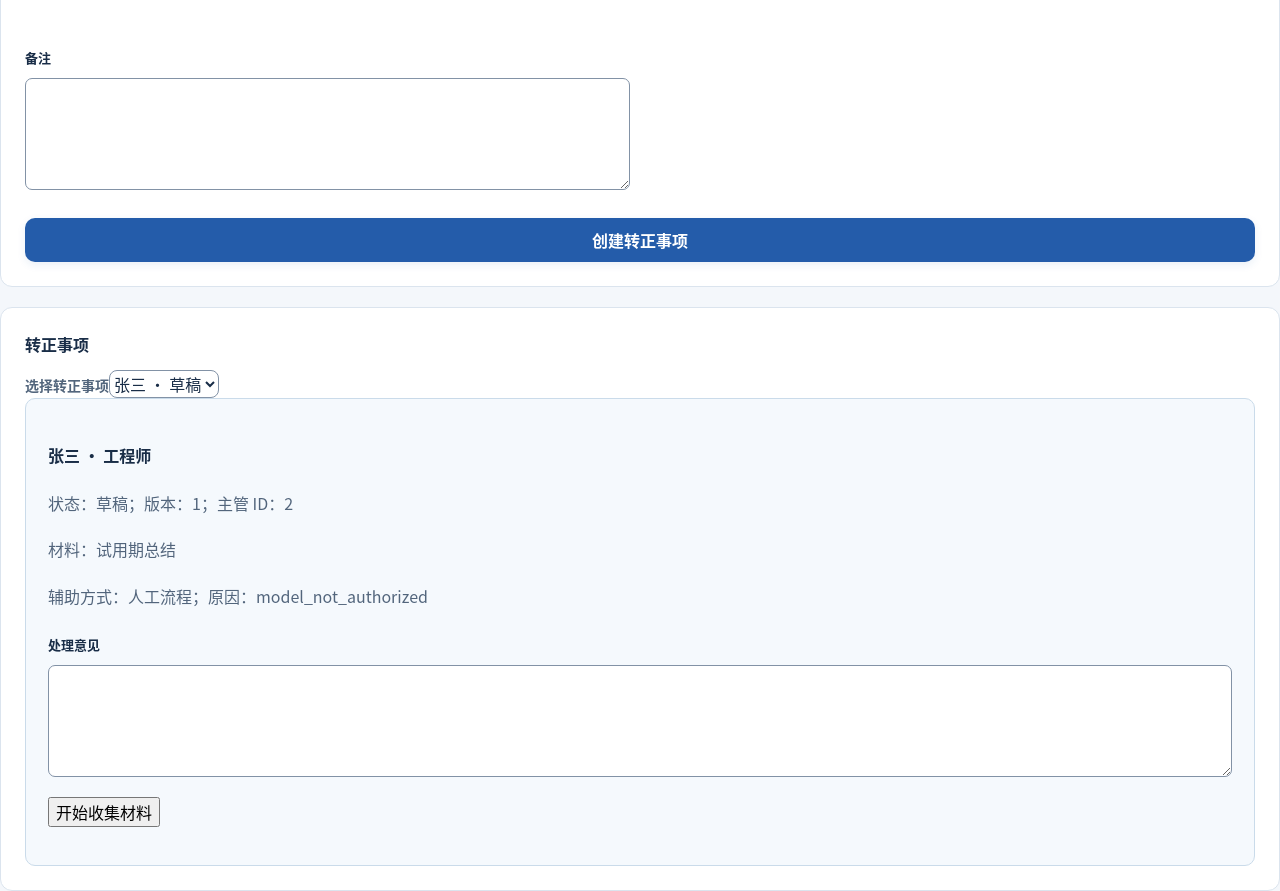
it: 转正工作区 › 只展示后端actions允许的下一步并提交版本合同
The width and height of the screenshot is (1280, 891).
(page scrolled)
Click the button "开始收集材料".
click(104, 812)  # box [48,797,160,827]
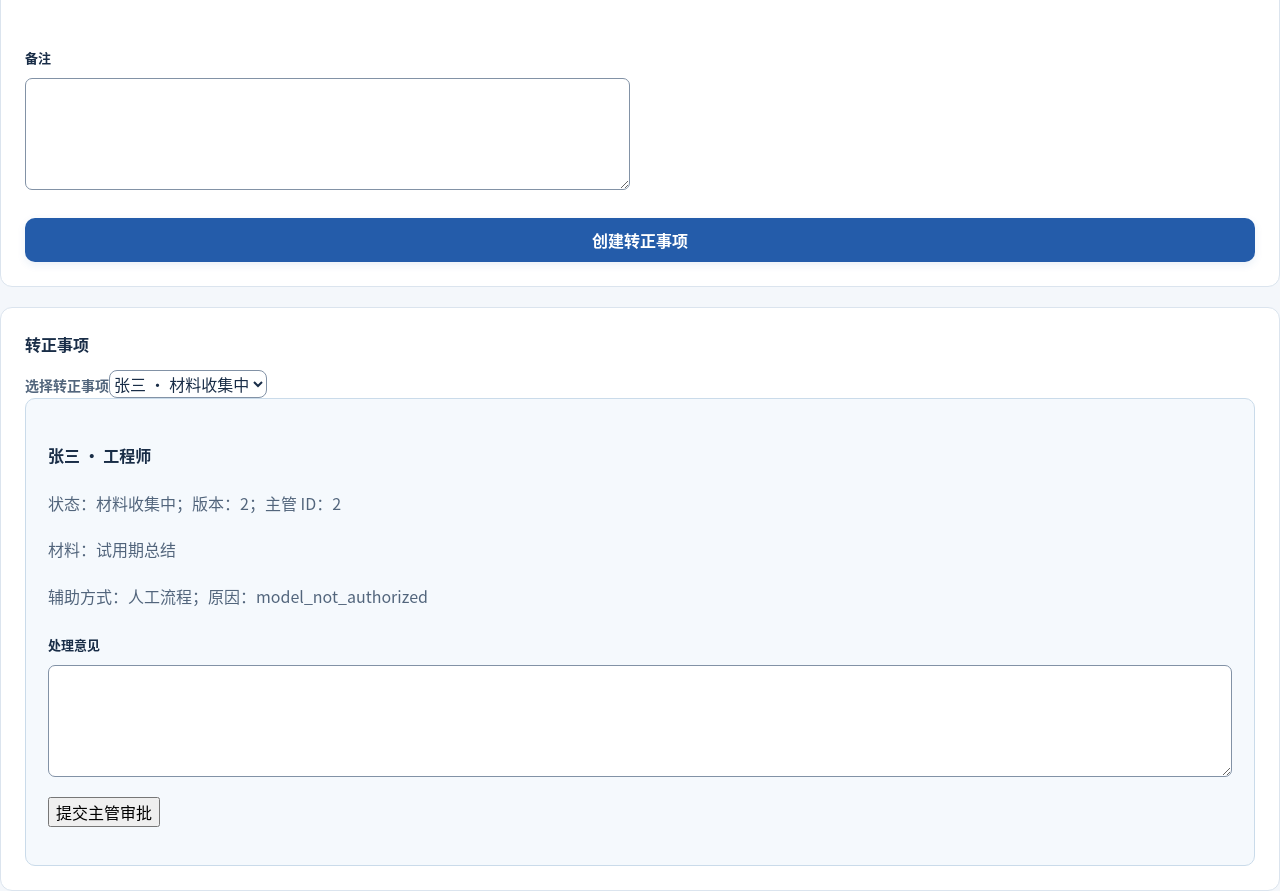
Now the button "提交主管审批" is shown, box [48,797,160,827]
